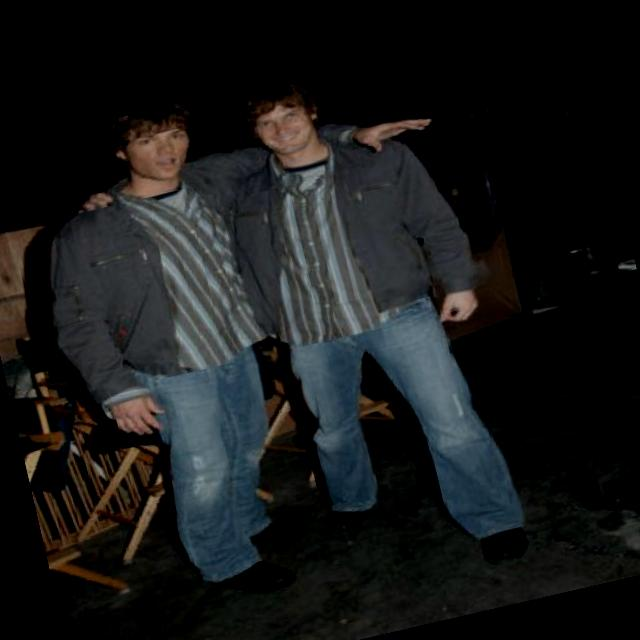Person: (215, 35, 580, 626), (0, 67, 333, 626), (116, 482, 131, 509)
